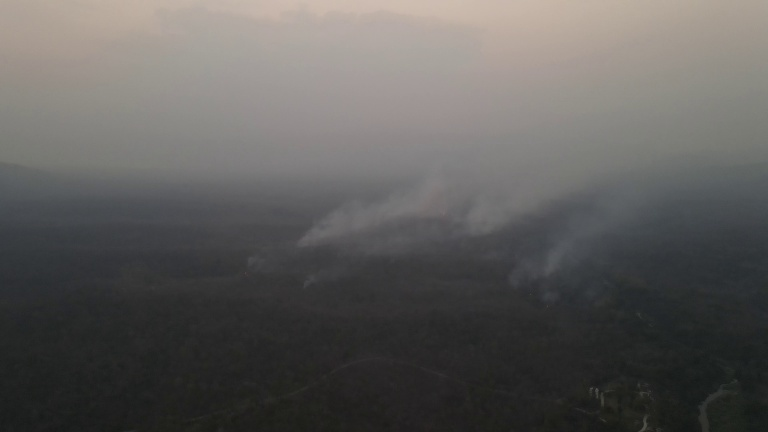smoke: (289, 135, 580, 298)
